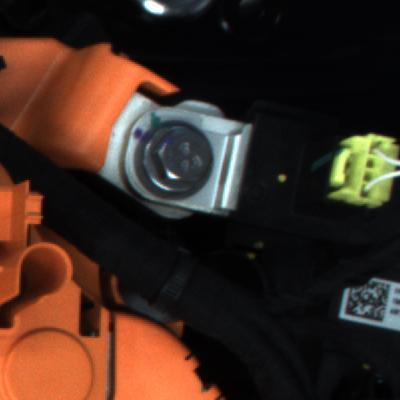nut_b: (126, 119, 220, 202)
